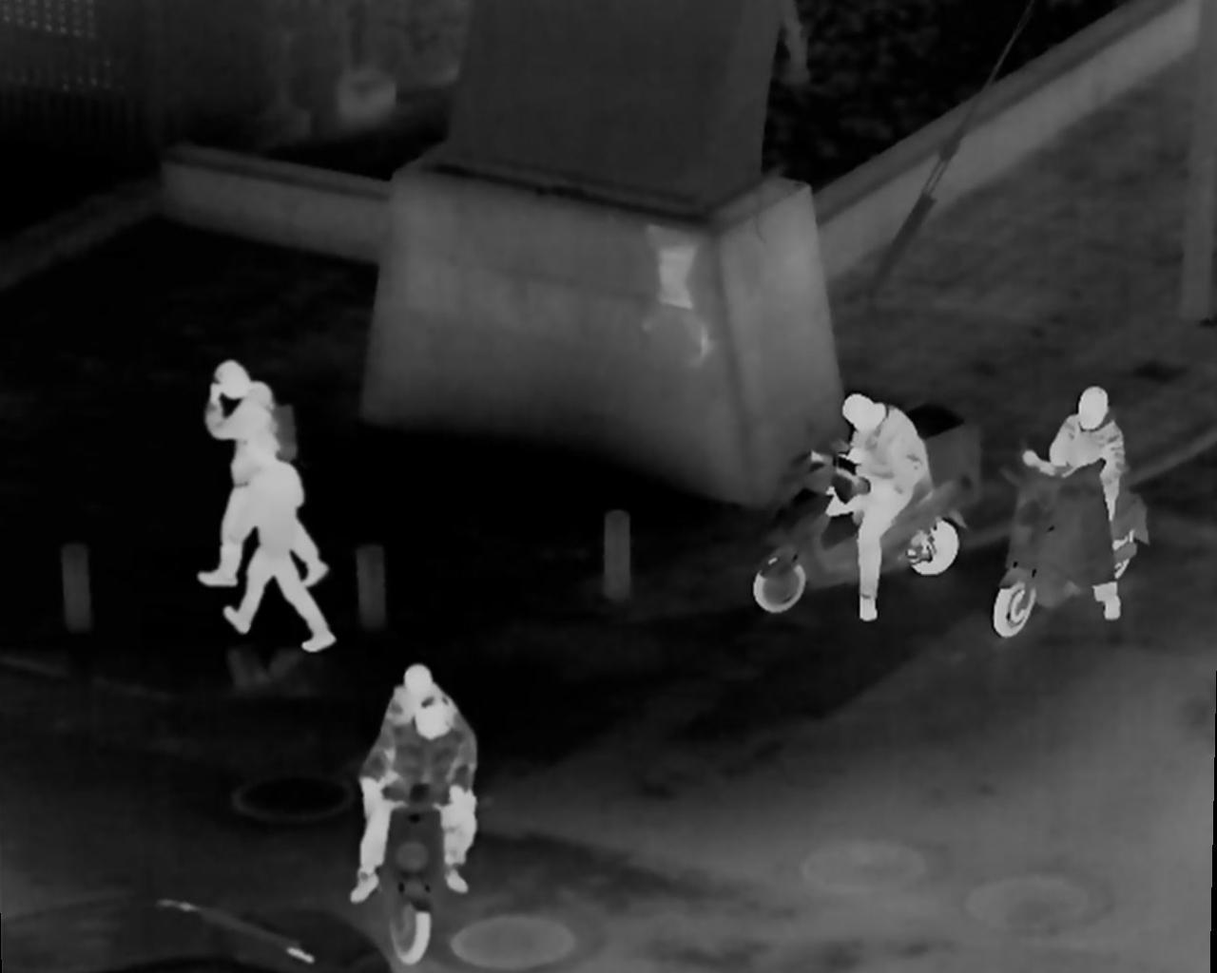person: (1011, 376, 1138, 627), (835, 387, 952, 635), (191, 366, 319, 590), (353, 696, 470, 902), (362, 659, 476, 830), (236, 432, 324, 649)
